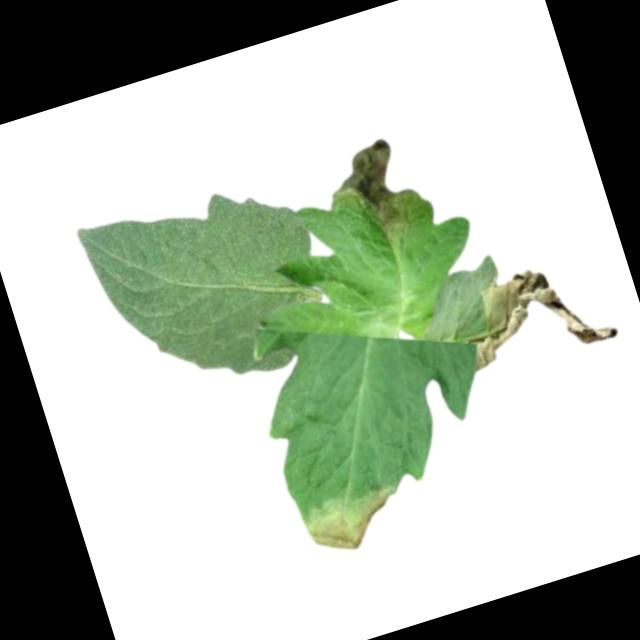Late_blight: (446, 247, 620, 380), (315, 132, 428, 254), (291, 475, 408, 563)
